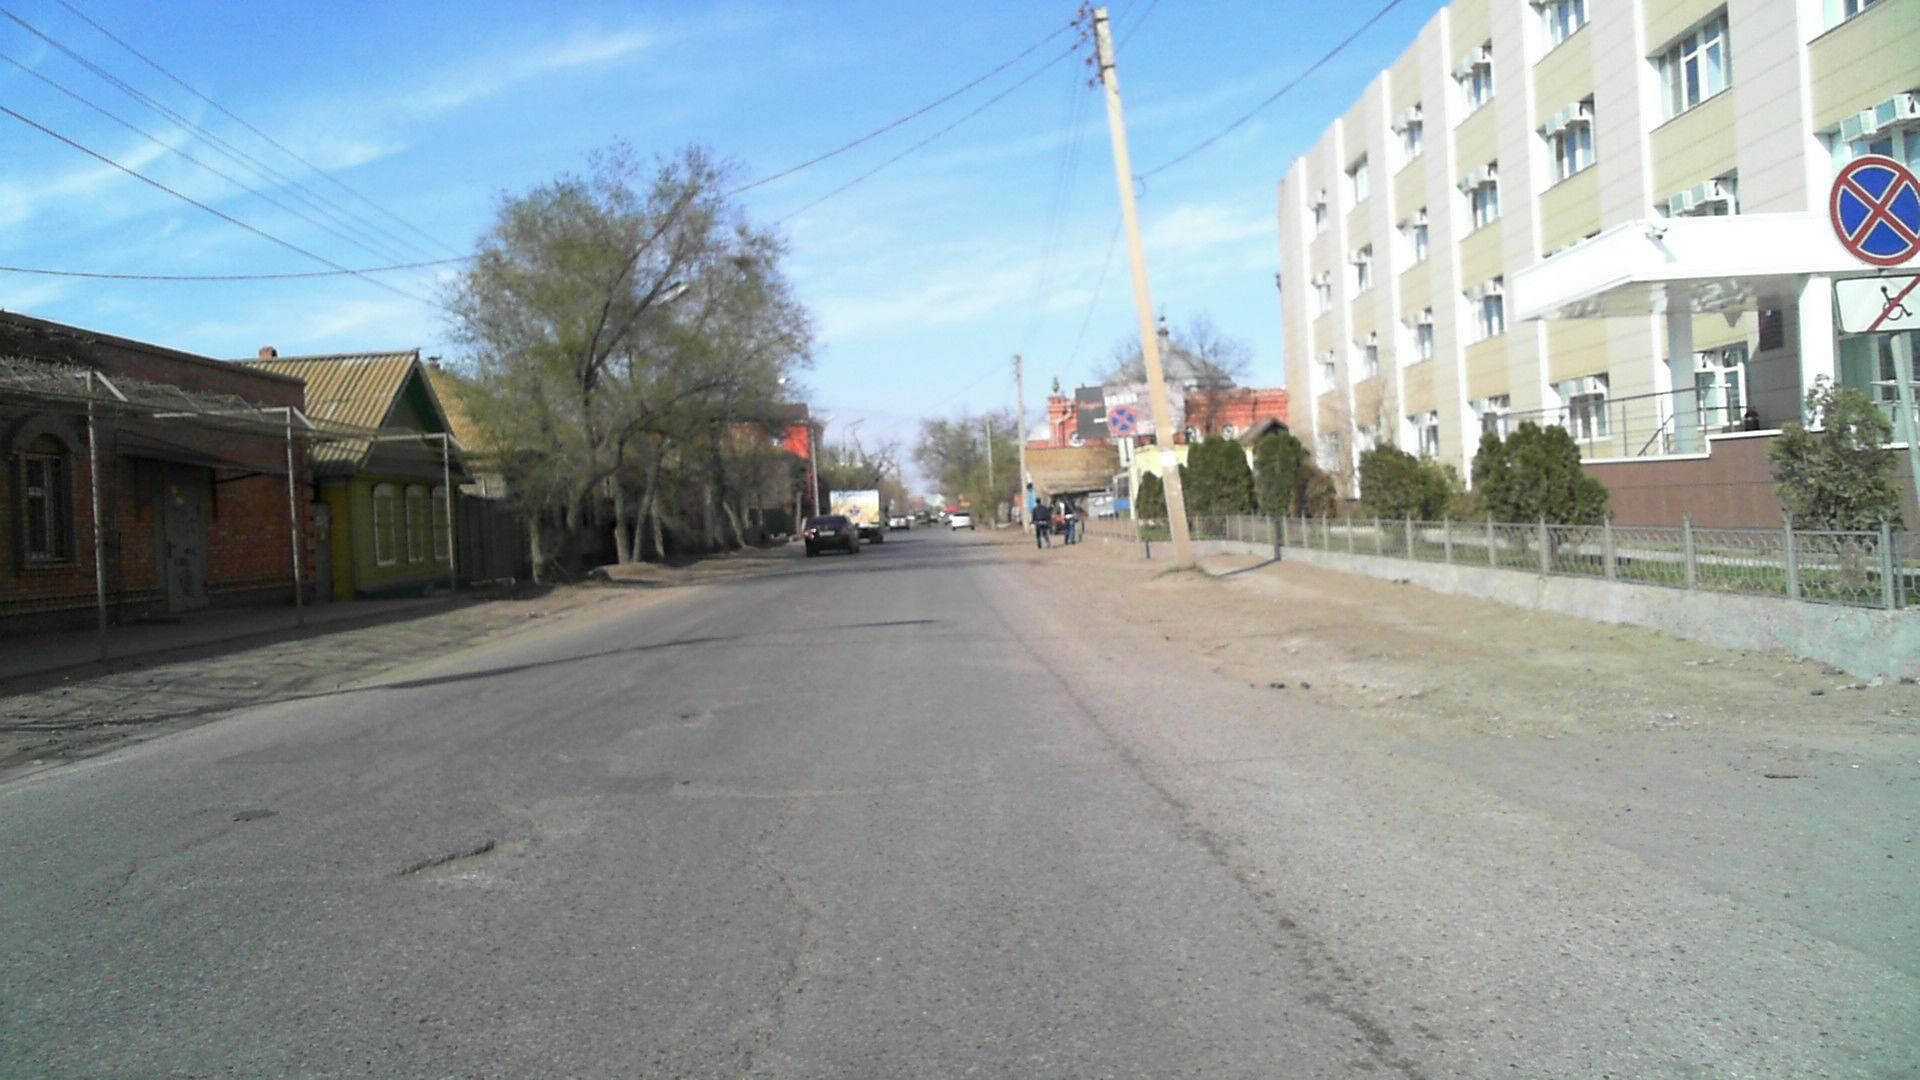3_27: (1820, 156, 1920, 266), (1105, 403, 1138, 432)
8_18: (1834, 273, 1919, 340)
8_2_3: (1115, 435, 1136, 468)
